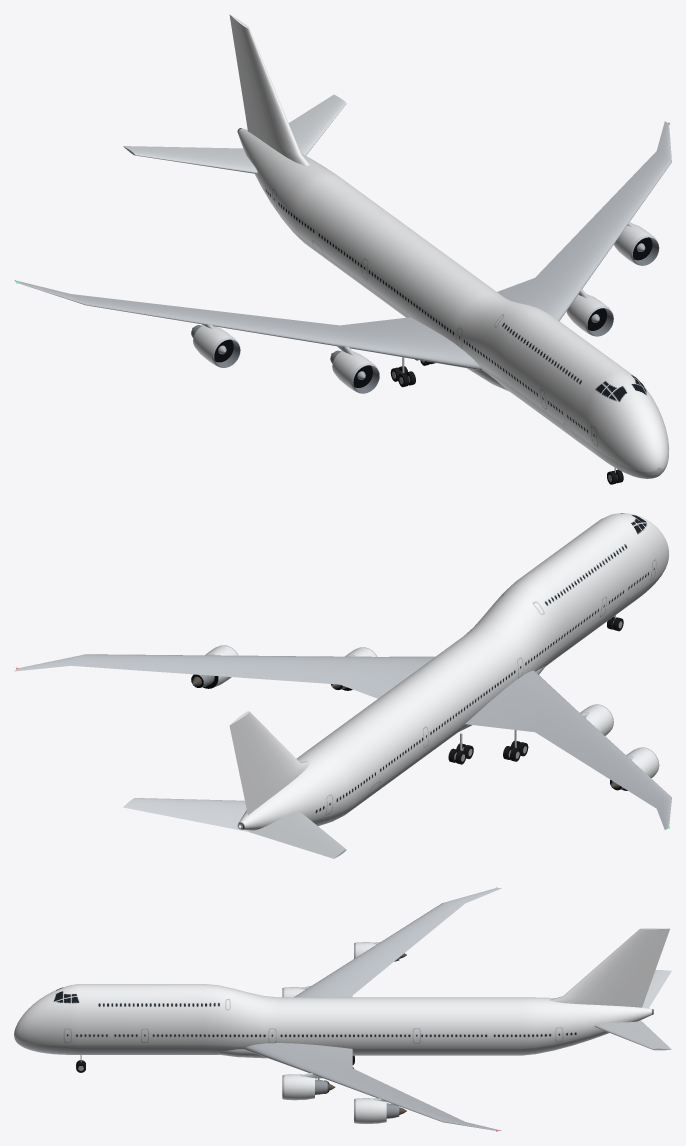
3 views of the same model, one above another, from view 1: azimuth 30°, elevation 25°; view 2: azimuth 150°, elevation 25°; view 3: azimuth 270°, elevation 25° (orthographic). The views are drawn at different scales.
Parts seen in each view (by area): view 1: body, gear; view 2: body, gear; view 3: body.
Boxes of the visible parts, x1=… form: body: x1=14, y1=14, x2=671, y2=478; gear: x1=390, y1=357, x2=623, y2=484; body: x1=14, y1=513, x2=671, y2=858; gear: x1=448, y1=615, x2=623, y2=764; body: x1=14, y1=887, x2=671, y2=1131.
Bounding box in the file's own units: 68.72 × 18.72 × 78.42.
Materials: 19 (1 with a texture image).
